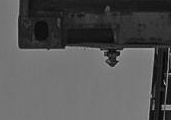twist_lock_2: (97, 44, 124, 70)
